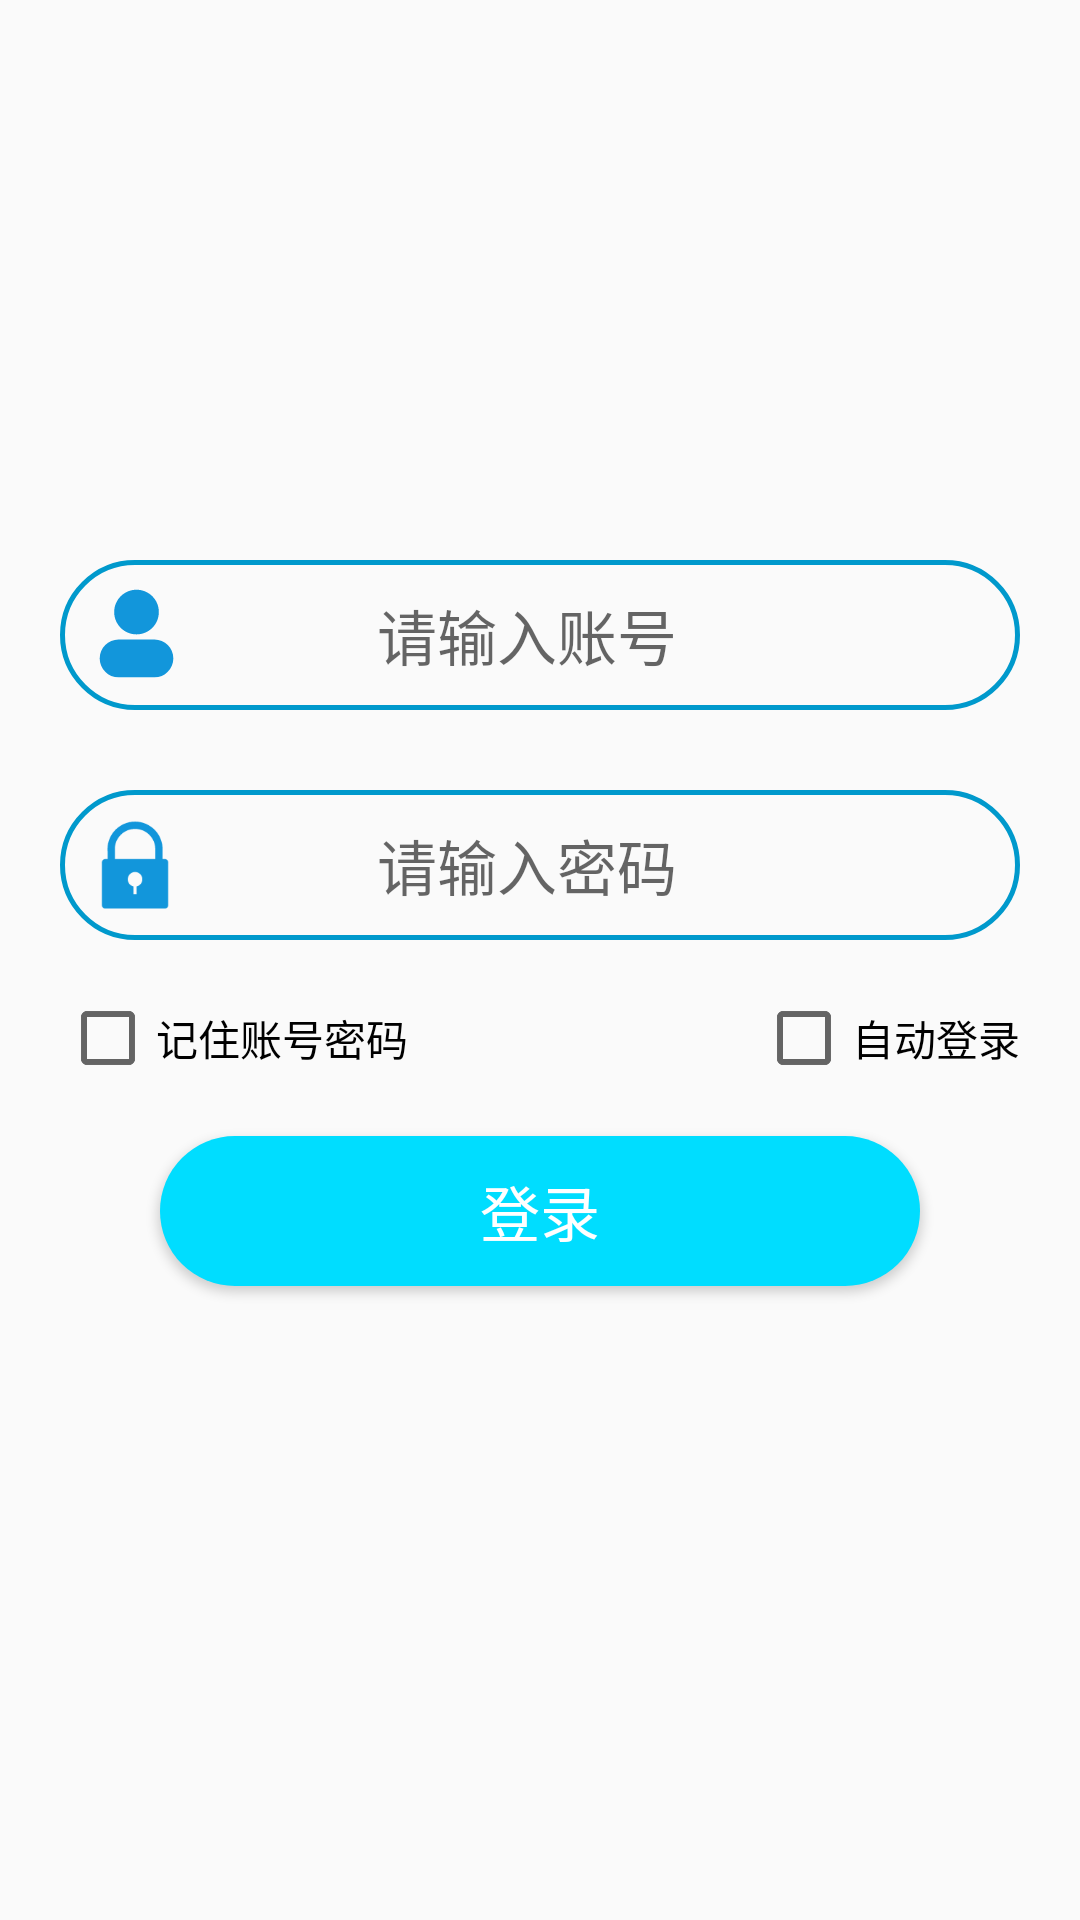

Where to tap for icons on this 1080px x 1920px app screen, as [x,y]:
password: [135,865]
